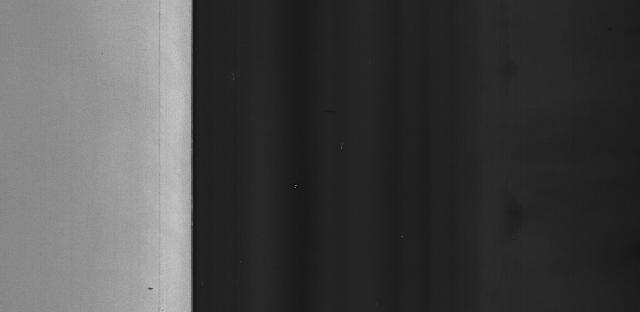inclusion: (144, 284, 159, 297)
